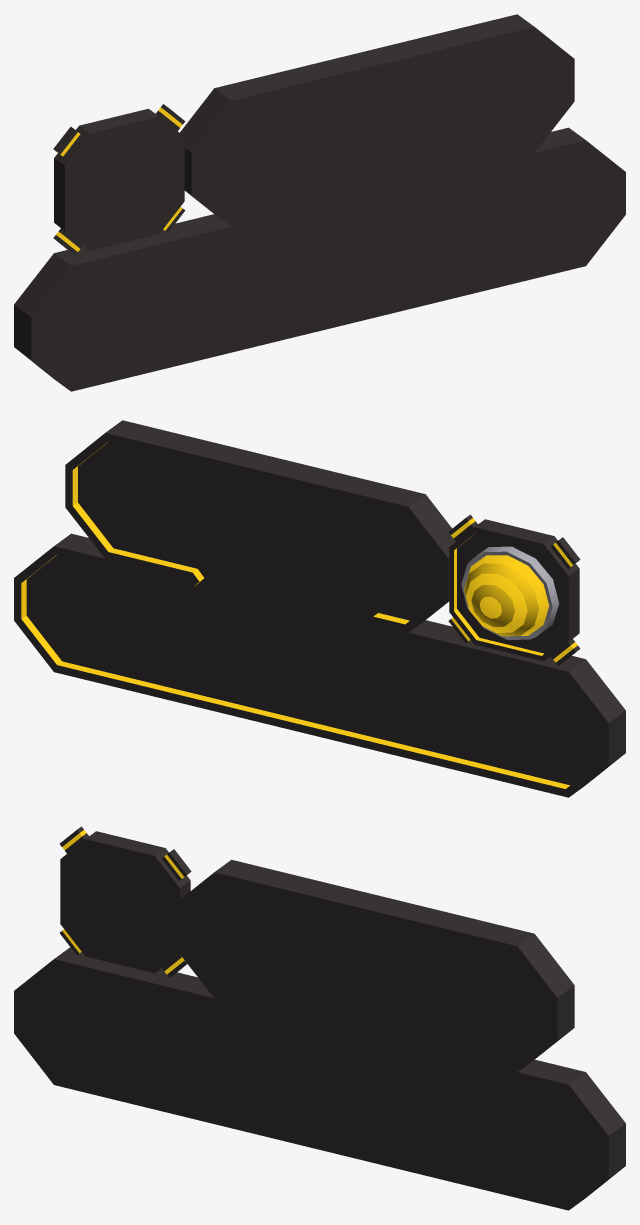
Rendered from claimpad.02.gltf.
The picture shows the model from 3 angles, top to bottom: view 1: azimuth 30°, elevation 25°; view 2: azimuth 150°, elevation 25°; view 3: azimuth 330°, elevation 25°; orthographic projection.
Visible parts, largest first — view 1: claimpad.002, claimpad.003; view 2: claimpad.002, claimpad.003, claimpad.button; view 3: claimpad.002, claimpad.003.
Boxes of the visible parts, <box> form: claimpad.002: <box>14,14,625,391</box>; claimpad.003: <box>53,104,185,255</box>; claimpad.002: <box>14,420,625,797</box>; claimpad.003: <box>448,514,580,665</box>; claimpad.button: <box>461,546,559,639</box>; claimpad.002: <box>14,859,625,1210</box>; claimpad.003: <box>59,826,191,977</box>.
Bounding box in the file's own units: 2.32 × 0.9371 × 0.2435.
Materials: 2 (2 with a texture image).
